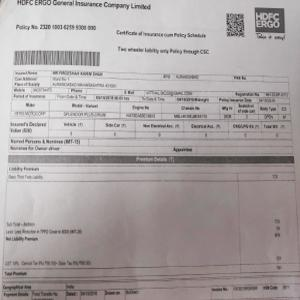image: (256, 9, 284, 33)
table: (4, 155, 299, 277), (11, 68, 292, 153)
